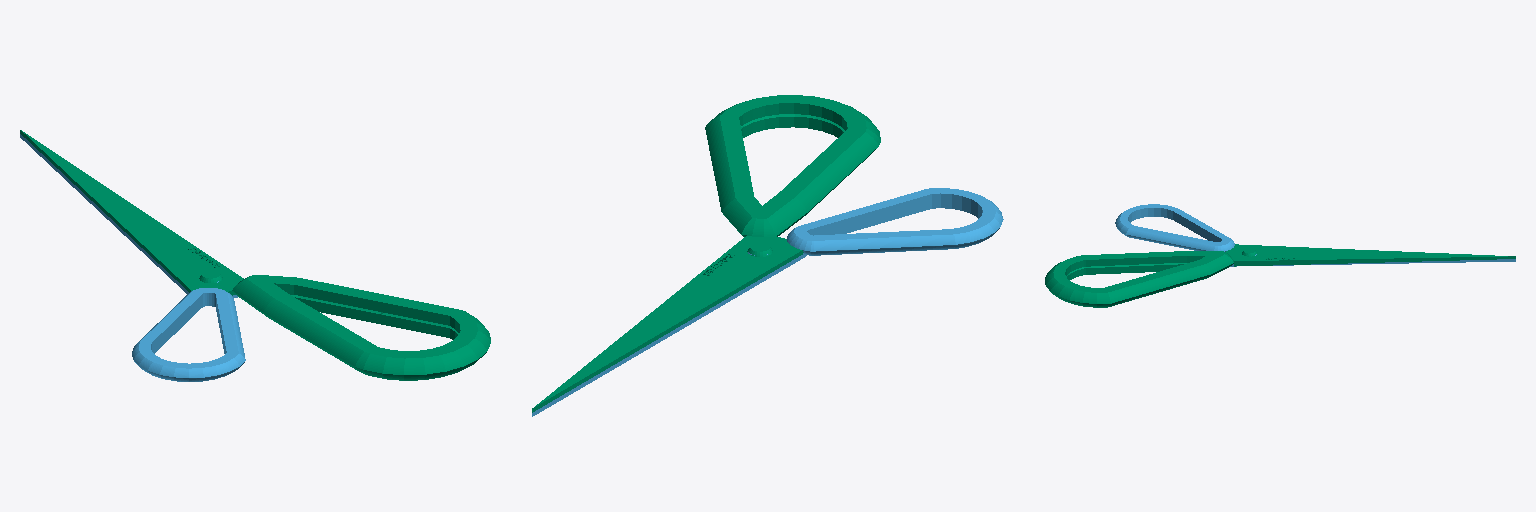
robot.urdf — partnet_f4897c9b20e811f1309c3ff4f31971fa:
<?xml version="1.0" ?>
<robot name="partnet_f4897c9b20e811f1309c3ff4f31971fa">
	<link name="base"/>
	<link name="link_0">
		<visual name="blade-12">
			<origin xyz="0.1921911554428841 0 -0.041350145152919474"/>
			<geometry>
				<mesh filename="textured_objs/new-4.obj"/>
			</geometry>
		</visual>
		<visual name="handle-13">
			<origin xyz="0.1921911554428841 0 -0.041350145152919474"/>
			<geometry>
				<mesh filename="textured_objs/original-4.obj"/>
			</geometry>
		</visual>
		<visual name="handle-13">
			<origin xyz="0.1921911554428841 0 -0.041350145152919474"/>
			<geometry>
				<mesh filename="textured_objs/original-3.obj"/>
			</geometry>
		</visual>
		<collision>
			<origin xyz="0.1921911554428841 0 -0.041350145152919474"/>
			<geometry>
				<mesh filename="textured_objs/new-4.obj"/>
			</geometry>
		</collision>
		<collision>
			<origin xyz="0.1921911554428841 0 -0.041350145152919474"/>
			<geometry>
				<mesh filename="textured_objs/original-4.obj"/>
			</geometry>
		</collision>
		<collision>
			<origin xyz="0.1921911554428841 0 -0.041350145152919474"/>
			<geometry>
				<mesh filename="textured_objs/original-3.obj"/>
			</geometry>
		</collision>
	</link>
	<joint name="joint_0" type="revolute">
		<origin xyz="-0.1921911554428841 0 0.041350145152919474"/>
		<axis xyz="0 -1 0"/>
		<child link="link_0"/>
		<parent link="link_1"/>
		<limit lower="-0.0" upper="0.8545132017764234"/>
	</joint>
	<link name="link_1">
		<visual name="screw-3">
			<origin xyz="0 0 0"/>
			<geometry>
				<mesh filename="textured_objs/new-0.obj"/>
			</geometry>
		</visual>
		<visual name="screw-3">
			<origin xyz="0 0 0"/>
			<geometry>
				<mesh filename="textured_objs/new-1.obj"/>
			</geometry>
		</visual>
		<visual name="blade-10">
			<origin xyz="0 0 0"/>
			<geometry>
				<mesh filename="textured_objs/original-31.obj"/>
			</geometry>
		</visual>
		<visual name="blade-10">
			<origin xyz="0 0 0"/>
			<geometry>
				<mesh filename="textured_objs/original-32.obj"/>
			</geometry>
		</visual>
		<visual name="blade-10">
			<origin xyz="0 0 0"/>
			<geometry>
				<mesh filename="textured_objs/original-33.obj"/>
			</geometry>
		</visual>
		<visual name="blade-10">
			<origin xyz="0 0 0"/>
			<geometry>
				<mesh filename="textured_objs/original-34.obj"/>
			</geometry>
		</visual>
		<visual name="blade-10">
			<origin xyz="0 0 0"/>
			<geometry>
				<mesh filename="textured_objs/original-35.obj"/>
			</geometry>
		</visual>
		<visual name="blade-10">
			<origin xyz="0 0 0"/>
			<geometry>
				<mesh filename="textured_objs/original-36.obj"/>
			</geometry>
		</visual>
		<visual name="blade-10">
			<origin xyz="0 0 0"/>
			<geometry>
				<mesh filename="textured_objs/original-37.obj"/>
			</geometry>
		</visual>
		<visual name="blade-10">
			<origin xyz="0 0 0"/>
			<geometry>
				<mesh filename="textured_objs/original-38.obj"/>
			</geometry>
		</visual>
		<visual name="blade-10">
			<origin xyz="0 0 0"/>
			<geometry>
				<mesh filename="textured_objs/new-3.obj"/>
			</geometry>
		</visual>
		<visual name="blade-10">
			<origin xyz="0 0 0"/>
			<geometry>
				<mesh filename="textured_objs/original-39.obj"/>
			</geometry>
		</visual>
		<visual name="blade-10">
			<origin xyz="0 0 0"/>
			<geometry>
				<mesh filename="textured_objs/original-40.obj"/>
			</geometry>
		</visual>
		<visual name="blade-10">
			<origin xyz="0 0 0"/>
			<geometry>
				<mesh filename="textured_objs/original-41.obj"/>
			</geometry>
		</visual>
		<visual name="handle-11">
			<origin xyz="0 0 0"/>
			<geometry>
				<mesh filename="textured_objs/original-27.obj"/>
			</geometry>
		</visual>
		<visual name="handle-11">
			<origin xyz="0 0 0"/>
			<geometry>
				<mesh filename="textured_objs/original-28.obj"/>
			</geometry>
		</visual>
		<collision>
			<origin xyz="0 0 0"/>
			<geometry>
				<mesh filename="textured_objs/new-0.obj"/>
			</geometry>
		</collision>
		<collision>
			<origin xyz="0 0 0"/>
			<geometry>
				<mesh filename="textured_objs/new-1.obj"/>
			</geometry>
		</collision>
		<collision>
			<origin xyz="0 0 0"/>
			<geometry>
				<mesh filename="textured_objs/original-31.obj"/>
			</geometry>
		</collision>
		<collision>
			<origin xyz="0 0 0"/>
			<geometry>
				<mesh filename="textured_objs/original-32.obj"/>
			</geometry>
		</collision>
		<collision>
			<origin xyz="0 0 0"/>
			<geometry>
				<mesh filename="textured_objs/original-33.obj"/>
			</geometry>
		</collision>
		<collision>
			<origin xyz="0 0 0"/>
			<geometry>
				<mesh filename="textured_objs/original-34.obj"/>
			</geometry>
		</collision>
		<collision>
			<origin xyz="0 0 0"/>
			<geometry>
				<mesh filename="textured_objs/original-35.obj"/>
			</geometry>
		</collision>
		<collision>
			<origin xyz="0 0 0"/>
			<geometry>
				<mesh filename="textured_objs/original-36.obj"/>
			</geometry>
		</collision>
		<collision>
			<origin xyz="0 0 0"/>
			<geometry>
				<mesh filename="textured_objs/original-37.obj"/>
			</geometry>
		</collision>
		<collision>
			<origin xyz="0 0 0"/>
			<geometry>
				<mesh filename="textured_objs/original-38.obj"/>
			</geometry>
		</collision>
		<collision>
			<origin xyz="0 0 0"/>
			<geometry>
				<mesh filename="textured_objs/new-3.obj"/>
			</geometry>
		</collision>
		<collision>
			<origin xyz="0 0 0"/>
			<geometry>
				<mesh filename="textured_objs/original-39.obj"/>
			</geometry>
		</collision>
		<collision>
			<origin xyz="0 0 0"/>
			<geometry>
				<mesh filename="textured_objs/original-40.obj"/>
			</geometry>
		</collision>
		<collision>
			<origin xyz="0 0 0"/>
			<geometry>
				<mesh filename="textured_objs/original-41.obj"/>
			</geometry>
		</collision>
		<collision>
			<origin xyz="0 0 0"/>
			<geometry>
				<mesh filename="textured_objs/original-27.obj"/>
			</geometry>
		</collision>
		<collision>
			<origin xyz="0 0 0"/>
			<geometry>
				<mesh filename="textured_objs/original-28.obj"/>
			</geometry>
		</collision>
	</link>
	<joint name="joint_1" type="fixed">
		<origin rpy="1.570796326794897 0 -1.570796326794897" xyz="0 0 0"/>
		<child link="link_1"/>
		<parent link="base"/>
	</joint>
</robot>

--- Render facts (derived) ---
3 views of the same robot in one strip: view 1: azimuth 30°, elevation 25°; view 2: azimuth 150°, elevation 25°; view 3: azimuth 270°, elevation 25° (orthographic).
Model partnet_f4897c9b20e811f1309c3ff4f31971fa with 3 links and 2 joints (1 revolute, 1 fixed), rooted at base, posed every joint at zero.
Visible links, largest first — view 1: link_1, link_0; view 2: link_1, link_0; view 3: link_1, link_0.
Boxes of the visible links, <box> form: link_1: <box>20,130,490,380</box>; link_0: <box>20,134,245,381</box>; link_1: <box>532,95,880,412</box>; link_0: <box>532,188,1003,416</box>; link_1: <box>1045,244,1515,307</box>; link_0: <box>1115,204,1515,266</box>.
Size in the robot's own frame: 0.7303 by 1.49 by 0.052 metres.
Meshes: 19 distinct files referenced, 19 mesh visuals loaded (19 OBJ).